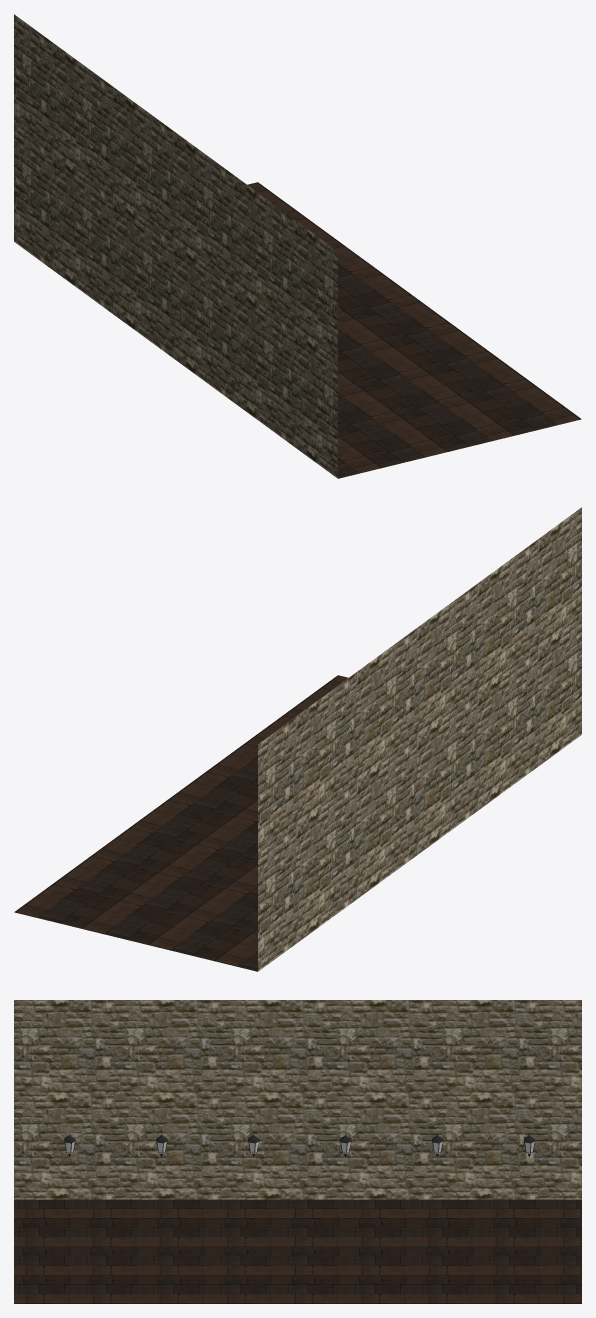
Rendered from Dungeon_1.fbx.
The picture shows the model from 3 angles, top to bottom: view 1: azimuth 30°, elevation 25°; view 2: azimuth 150°, elevation 25°; view 3: azimuth 270°, elevation 25°; orthographic projection. The views are drawn at different scales.
Visible parts, largest first — view 1: Ground; view 2: Ground; view 3: Ground, Cylinder.001.
Boxes of the visible parts, bbox=[...] form: Ground: bbox=[14, 14, 581, 478]; Ground: bbox=[14, 507, 581, 971]; Ground: bbox=[14, 1000, 581, 1303]; Cylinder.001: bbox=[64, 1134, 535, 1157].
Size of the model in its own units: 1395 by 1243 by 3209.
